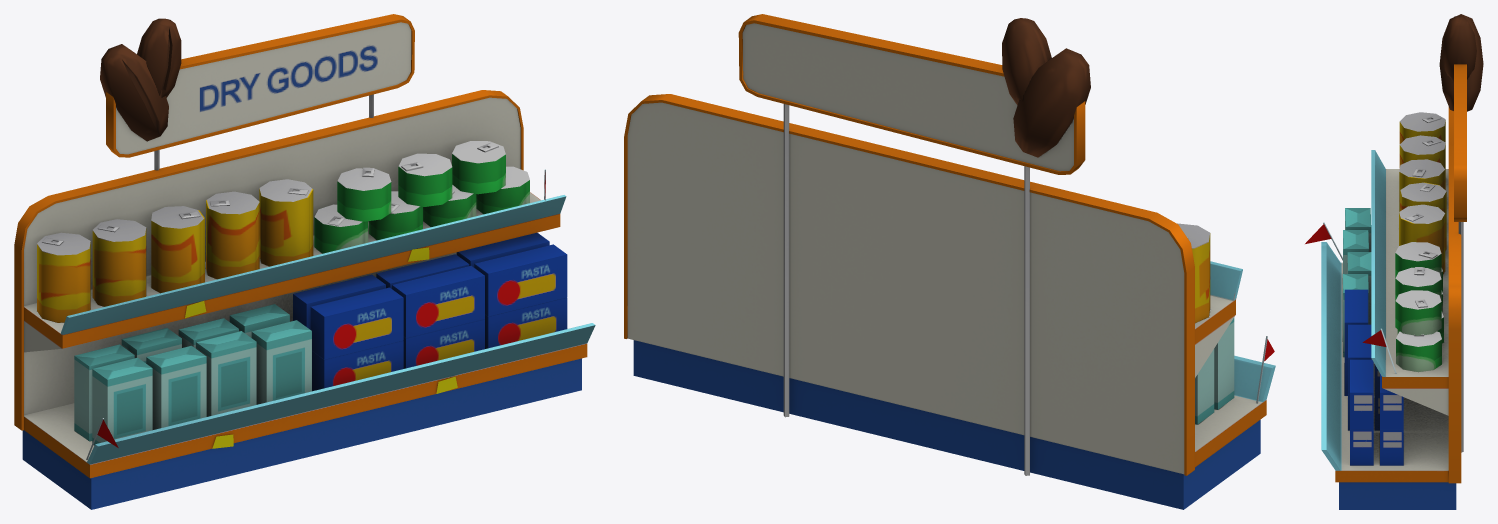
File: interior_shelf_dry_goods_001_gr_mesh.FBX
3 views of the same model, side by side, from view 1: azimuth 30°, elevation 25°; view 2: azimuth 150°, elevation 25°; view 3: azimuth 270°, elevation 25° (orthographic). The views are drawn at different scales.
Visible parts, largest first — view 1: interior_shelf_dry_goods_001_gr; view 2: interior_shelf_dry_goods_001_gr; view 3: interior_shelf_dry_goods_001_gr.
Part boxes in pixels (<box>): interior_shelf_dry_goods_001_gr: <box>14,14,595,509</box>; interior_shelf_dry_goods_001_gr: <box>624,14,1275,509</box>; interior_shelf_dry_goods_001_gr: <box>1305,14,1483,509</box>.
Size of the model in its own units: 29.58 by 22.81 by 10.68.
